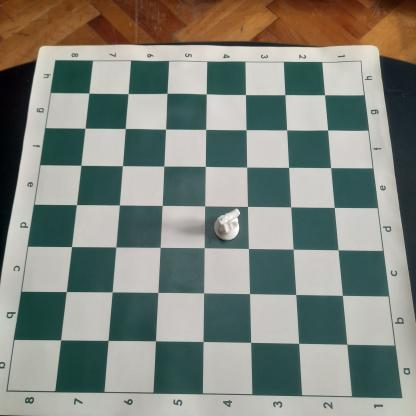white-knight: (213, 207, 241, 242)
